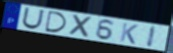6: (95, 19, 116, 42)
D: (44, 10, 69, 34)
I: (145, 24, 158, 49)
K: (119, 22, 140, 46)
U: (21, 7, 46, 30)
X: (69, 14, 95, 39)
